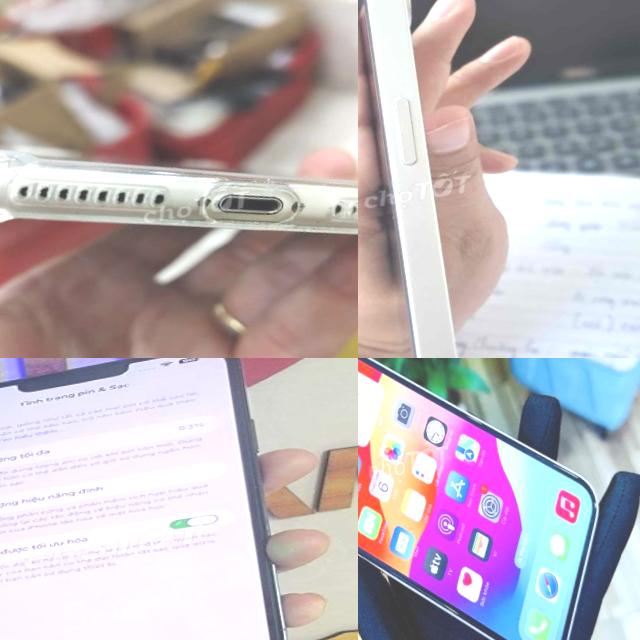gen_12_13: (0, 358, 337, 640), (358, 358, 624, 640)
gen_16: (361, 0, 456, 358)
gen_7_8: (0, 56, 358, 336)
